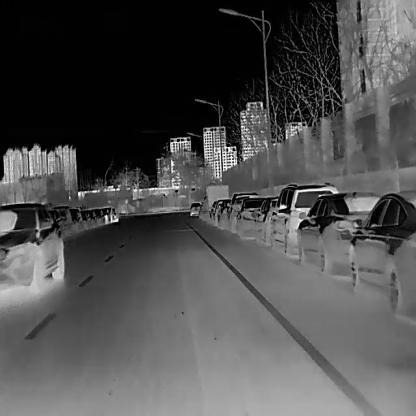car: (348, 189, 415, 314), (297, 190, 380, 276), (0, 201, 63, 291), (269, 181, 338, 257), (250, 194, 278, 245), (233, 196, 265, 239), (229, 190, 258, 232), (203, 184, 228, 219), (52, 205, 72, 238), (217, 197, 230, 228), (69, 208, 84, 233), (92, 207, 105, 225), (103, 206, 113, 223), (189, 202, 202, 215)
